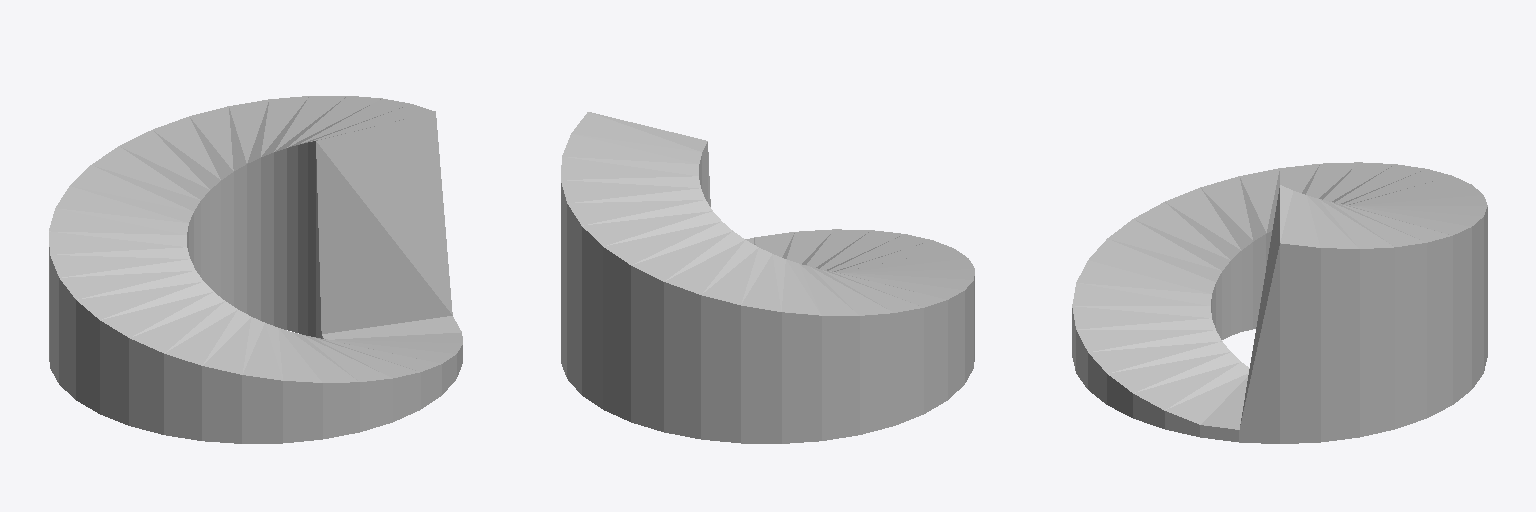
Rendered from simple corkscrew.obj.
3 renders of one model, left to right at view 1: azimuth 30°, elevation 25°; view 2: azimuth 150°, elevation 25°; view 3: azimuth 270°, elevation 25°, orthographic.
Parts seen in each view (by area): view 1: simple corkscrew; view 2: simple corkscrew; view 3: simple corkscrew.
Boxes of the visible parts, <box> form: simple corkscrew: <box>49,96,462,443</box>; simple corkscrew: <box>561,112,974,443</box>; simple corkscrew: <box>1072,162,1487,443</box>.
Size of the model in its own units: 30 by 16 by 30.